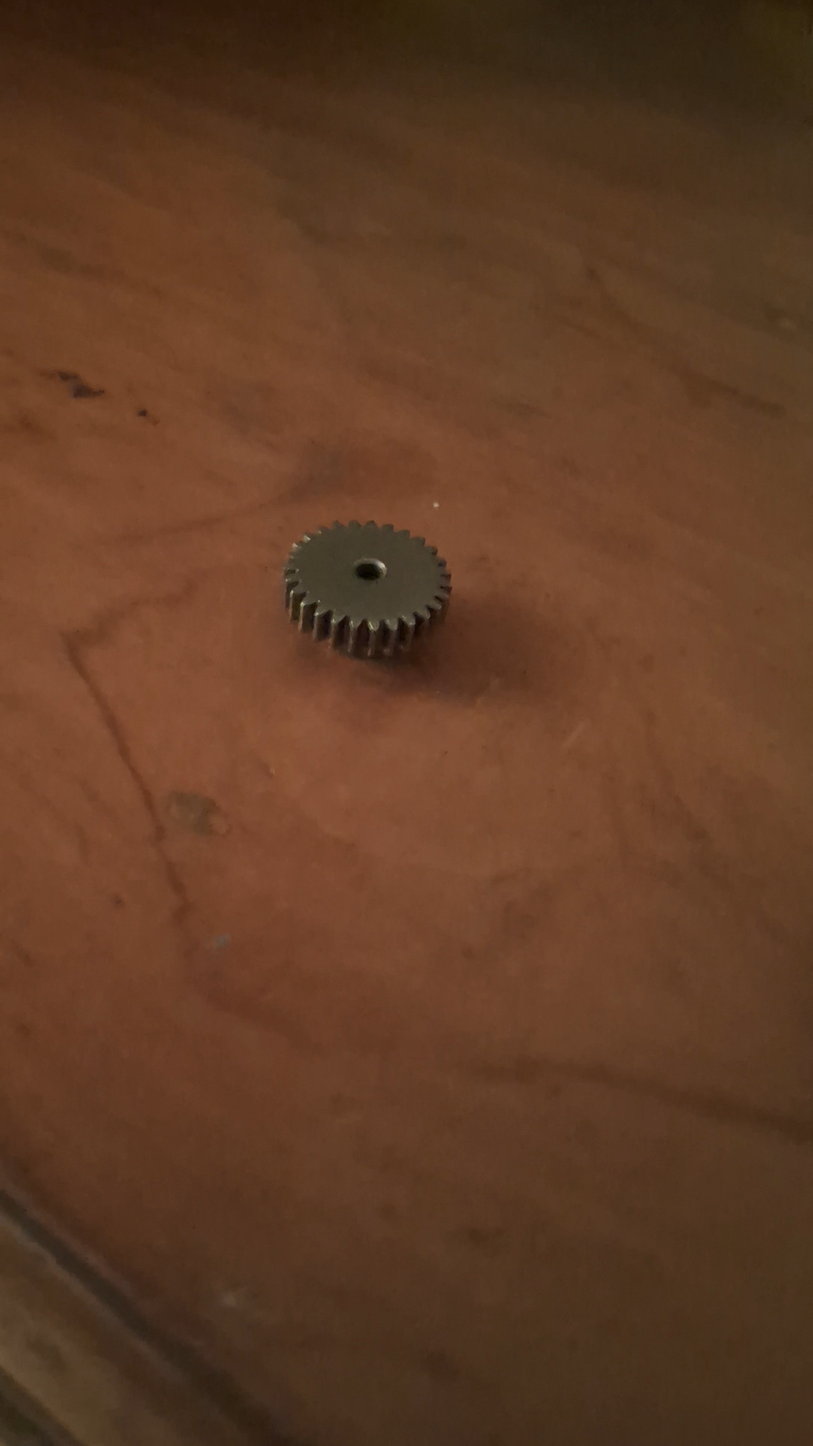spur gear: (284, 522, 451, 657)
